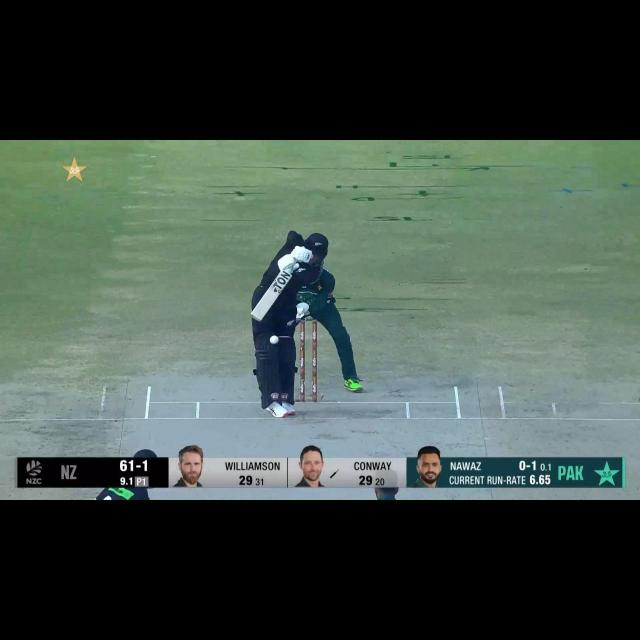bat: (252, 271, 291, 325)
toe: (248, 301, 270, 324)
